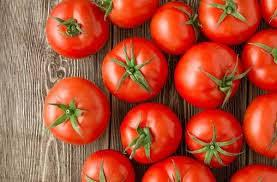tomato: (42, 78, 107, 145), (175, 43, 240, 108), (184, 105, 245, 174), (118, 100, 182, 162), (102, 38, 161, 99), (45, 3, 109, 52), (196, 2, 262, 47), (240, 91, 277, 156), (150, 6, 197, 53), (142, 156, 216, 180), (245, 30, 277, 85), (79, 151, 134, 178), (104, 1, 159, 27)
